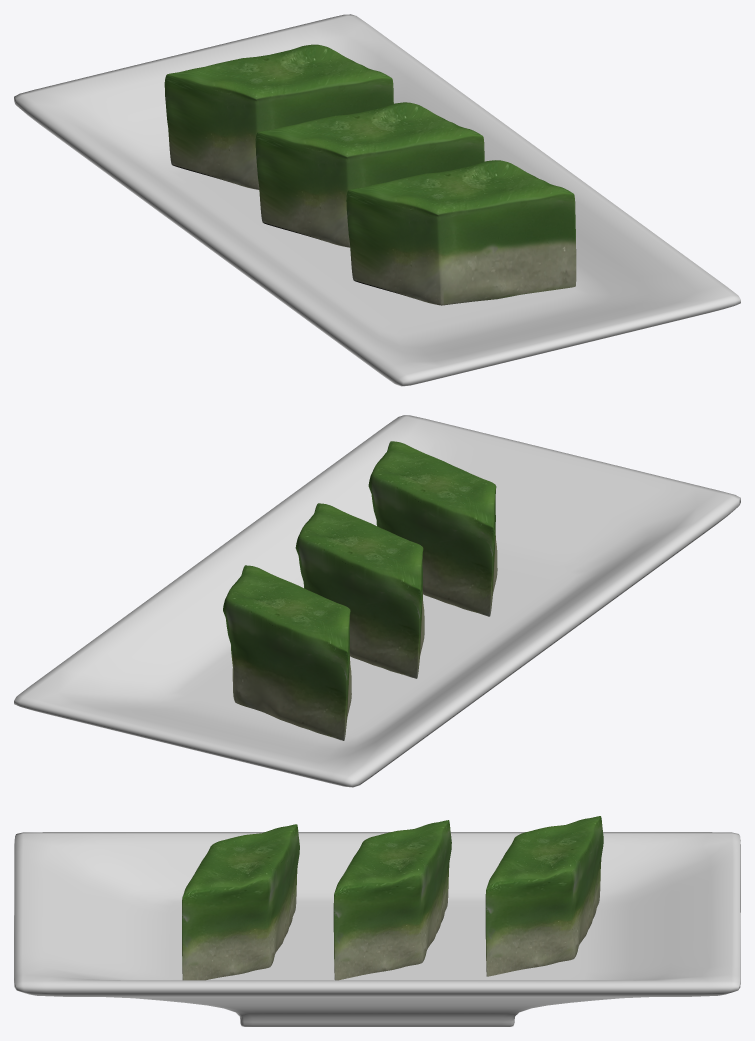
File: Makanan_2_4.glb
The picture shows the model from 3 angles, top to bottom: view 1: azimuth 30°, elevation 25°; view 2: azimuth 150°, elevation 25°; view 3: azimuth 270°, elevation 25°; orthographic projection. The views are drawn at different scales.
Parts seen in each view (by area): view 1: Cube, Cube.001; view 2: Cube, Cube.001; view 3: Cube, Cube.001.
Boxes of the visible parts, x1,y1,x2,y2 form: Cube: (14, 14, 740, 386); Cube.001: (164, 44, 576, 305); Cube: (14, 415, 740, 787); Cube.001: (223, 441, 497, 740); Cube: (14, 832, 740, 1026); Cube.001: (182, 816, 603, 980).
Bounding box in the file's own units: 199 × 90.43 × 392.
2 materials, 1 textured.
